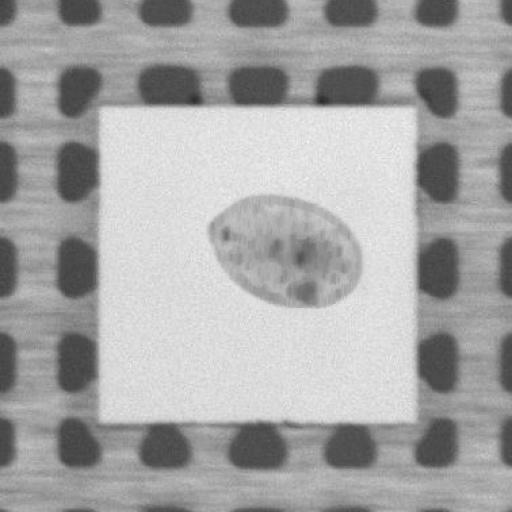DIE_INK: (207, 189, 378, 322)
